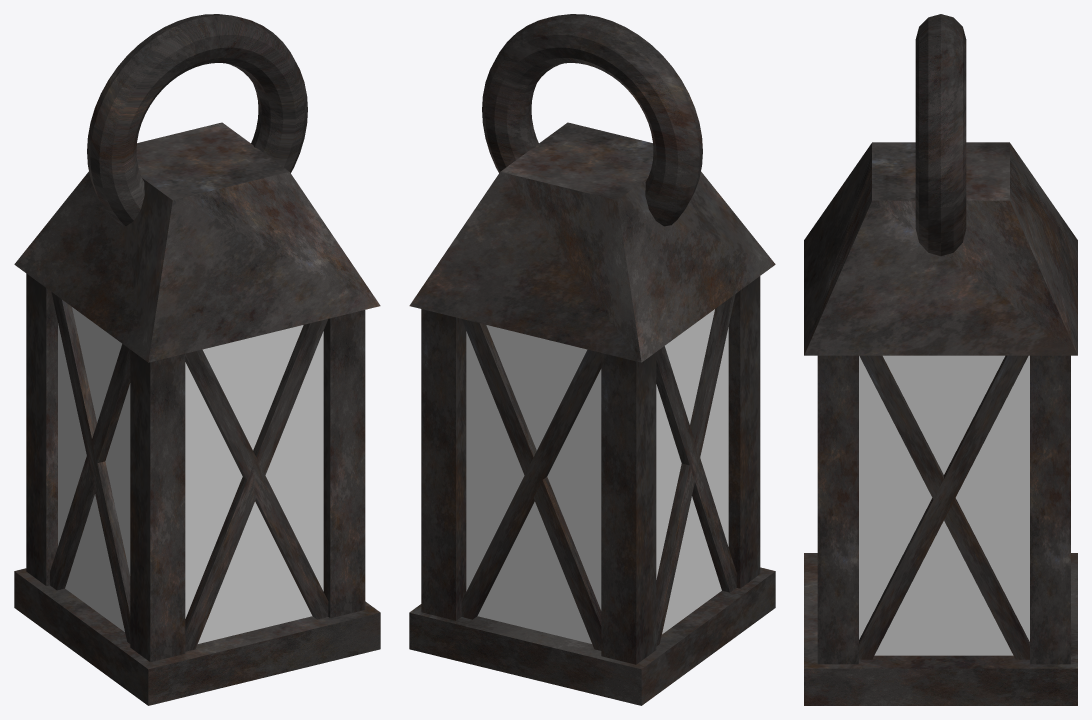
File: lantern_m1.fbx
3 renders of one model, left to right at view 1: azimuth 30°, elevation 25°; view 2: azimuth 150°, elevation 25°; view 3: azimuth 270°, elevation 25°, orthographic. The views are drawn at different scales.
Parts seen in each view (by area): view 1: Frame, Lightcube; view 2: Frame, Lightcube; view 3: Frame, Lightcube.
Boxes of the visible parts, left/top/right/bottom form: Frame: left=14, top=14, right=380, bottom=705; Lightcube: left=58, top=307, right=323, bottom=643; Frame: left=409, top=14, right=775, bottom=705; Lightcube: left=466, top=309, right=728, bottom=643; Frame: left=804, top=14, right=1077, bottom=705; Lightcube: left=859, top=355, right=1029, bottom=655.
Bounding box in the file's own units: 2 × 5.02 × 2.
